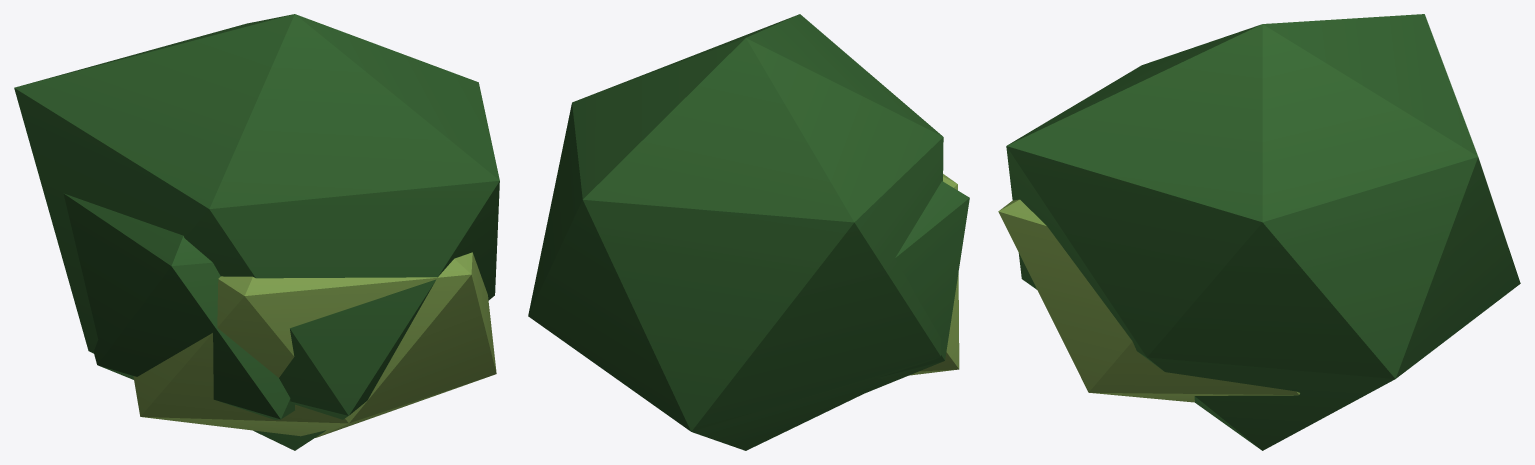
The model's file is bush_0.glb.
The picture shows the model from 3 angles, left to right: view 1: azimuth 30°, elevation 25°; view 2: azimuth 150°, elevation 25°; view 3: azimuth 270°, elevation 25°; orthographic projection. The views are drawn at different scales.
Visible parts, largest first — view 1: bush_0; view 2: bush_0; view 3: bush_0.
Part boxes in pixels (bbox=[...]): bush_0: bbox=[14, 14, 499, 450]; bush_0: bbox=[528, 14, 969, 450]; bush_0: bbox=[998, 14, 1520, 450].
Size of the model in its own units: 0.5146 by 0.5506 by 0.6106.
Materials: 1 (1 with a texture image).
